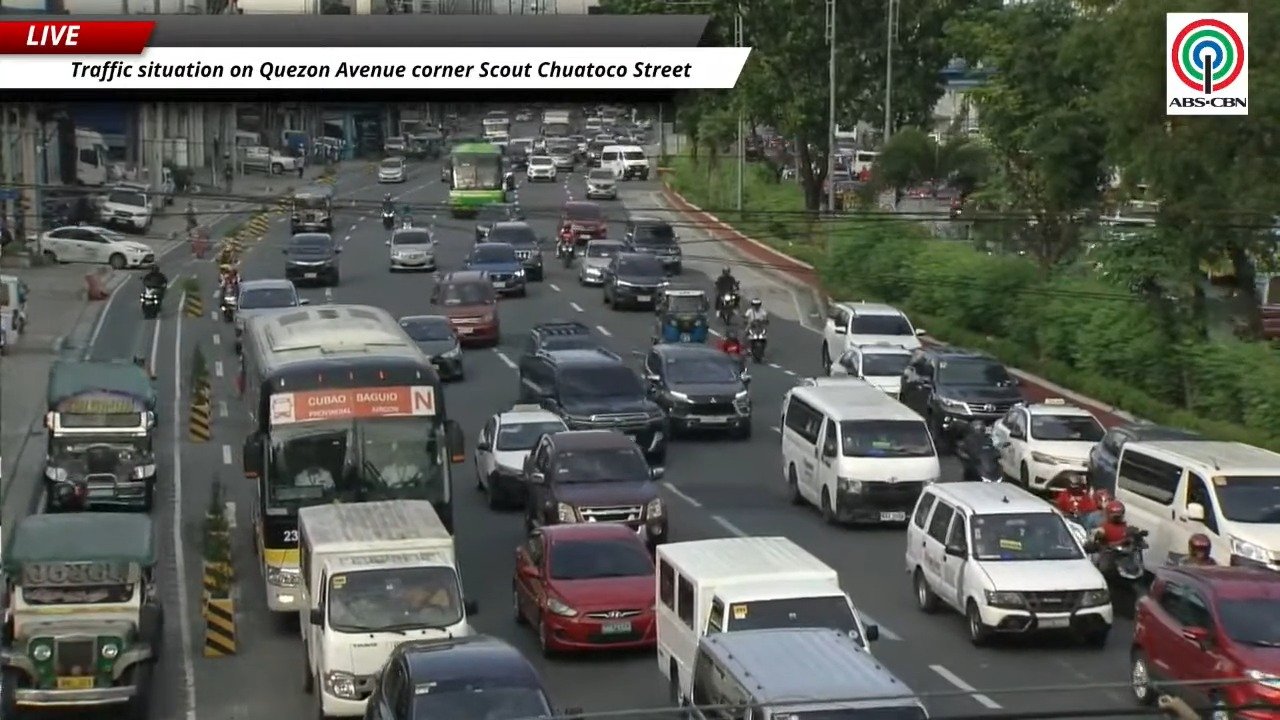bus: (237, 304, 463, 611), (448, 142, 505, 217)
car: (904, 482, 1113, 647), (0, 513, 163, 719), (1130, 566, 1279, 717), (513, 523, 655, 654), (365, 635, 577, 719), (517, 348, 669, 465), (524, 430, 667, 548), (899, 345, 1022, 451), (990, 398, 1105, 492), (643, 343, 751, 438), (474, 404, 567, 509), (1086, 423, 1202, 492), (821, 302, 924, 370), (234, 278, 308, 352), (430, 271, 499, 345), (41, 225, 155, 269), (778, 375, 866, 427), (830, 342, 911, 397), (398, 315, 464, 379), (603, 252, 668, 309), (486, 221, 544, 282), (464, 241, 526, 296), (624, 216, 682, 273), (282, 233, 341, 286), (522, 320, 603, 354), (99, 186, 151, 232), (387, 227, 436, 271), (579, 239, 623, 285), (475, 203, 524, 241), (240, 146, 299, 174), (586, 168, 617, 199), (525, 154, 557, 181), (507, 137, 534, 169), (547, 141, 576, 170), (585, 137, 612, 166), (377, 157, 407, 182), (567, 135, 587, 161), (383, 137, 406, 155), (486, 132, 509, 149), (440, 158, 452, 183), (514, 110, 532, 121)
motorcycle: (1093, 526, 1148, 591), (962, 445, 1002, 482), (1059, 497, 1101, 530), (746, 321, 766, 363), (717, 291, 739, 326), (140, 287, 162, 319), (219, 288, 237, 321), (556, 236, 574, 267), (382, 210, 395, 229), (0, 327, 7, 355), (401, 216, 413, 229)
truck: (297, 499, 476, 717), (655, 537, 878, 699), (41, 119, 110, 187)
